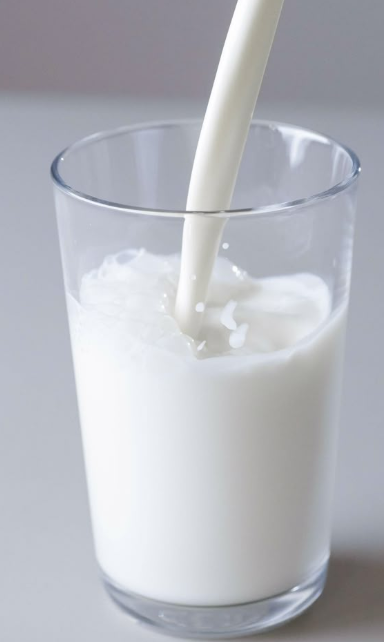produk_susu: (80, 145, 325, 607)
